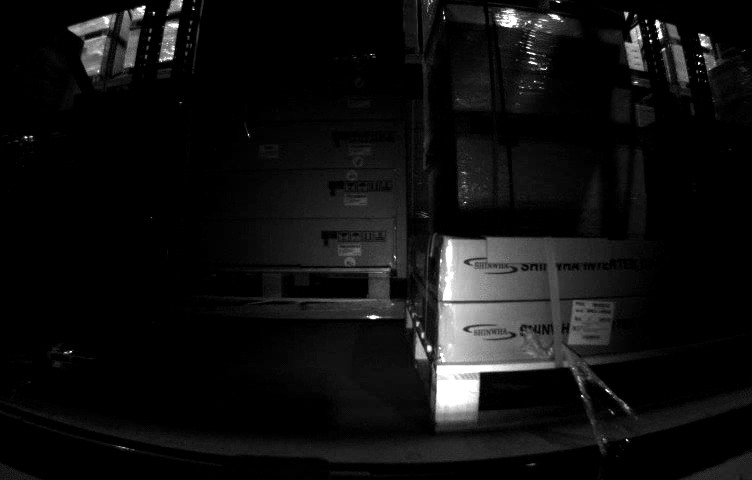True Barcode: (569, 301, 612, 349)
